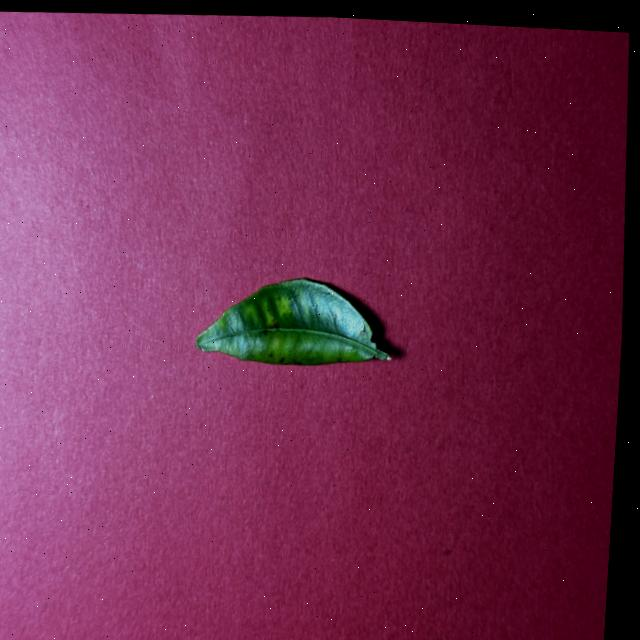greening: (195, 278, 389, 365)
